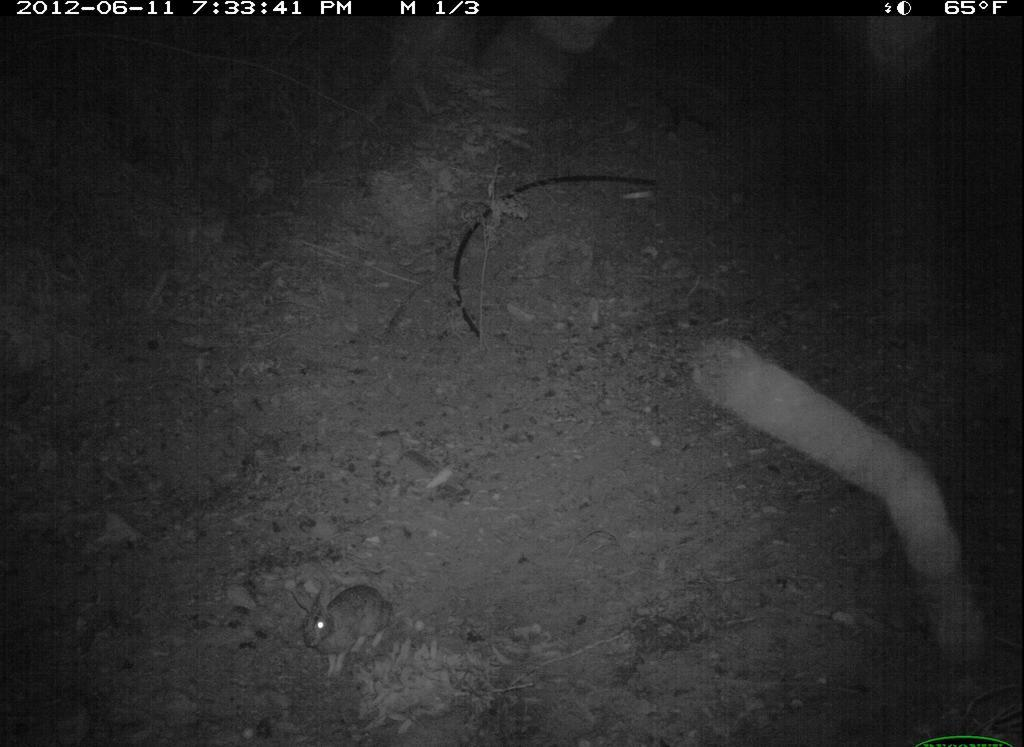rabbit: (287, 574, 414, 690)
